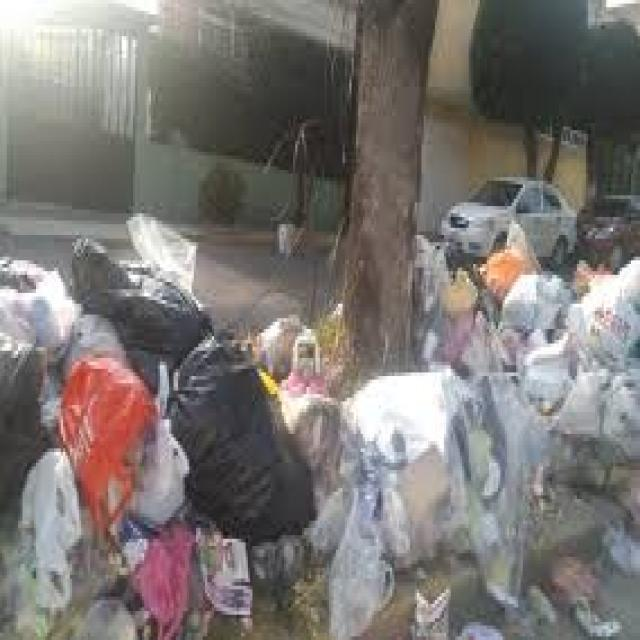garbage: (0, 217, 336, 640), (414, 224, 640, 600), (342, 363, 474, 576)
